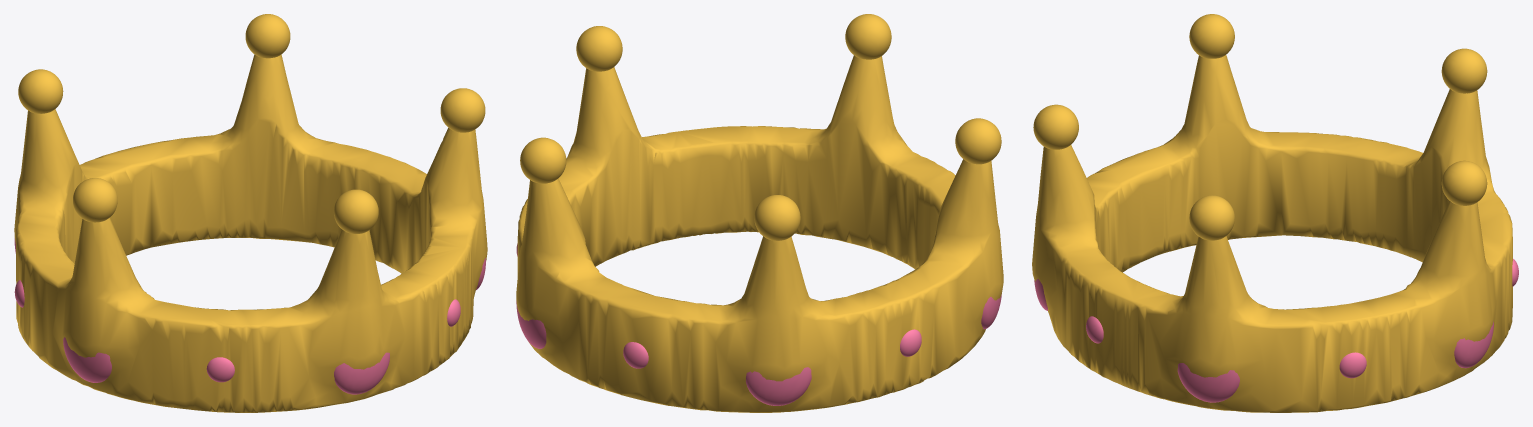
Rendered from reaccion_corona.glb.
The picture shows the model from 3 angles, left to right: view 1: azimuth 30°, elevation 25°; view 2: azimuth 150°, elevation 25°; view 3: azimuth 270°, elevation 25°; orthographic projection. The views are drawn at different scales.
Parts seen in each view (by area): view 1: corona, bolita corona 1, bolita corona 0, bolita corona 4, bolita corona 2, bolita corona 3, gema corona 0, gema corona 4, gemita corona 4; view 2: corona, bolita corona 2, bolita corona 0, bolita corona 3, bolita corona 4, bolita corona 1, gema corona 3, gema corona 2, gemita corona 2, gemita corona 3; view 3: corona, bolita corona 1, bolita corona 3, bolita corona 2, bolita corona 0, bolita corona 4, gema corona 1, gema corona 2, gemita corona 1.
Boxes of the visible parts, x1,y1,x2,y2 form: corona: (14,54,487,412); bolita corona 1: (440,88,485,132); bolita corona 0: (334,189,378,233); bolita corona 4: (73,178,117,222); bolita corona 2: (245,14,290,58); bolita corona 3: (18,69,63,113); gema corona 0: (334,352,389,394); gema corona 4: (63,337,111,382); gemita corona 4: (206,357,234,382); corona: (516,55,1003,412); bolita corona 2: (520,137,566,183); bolita corona 0: (845,14,891,59); bolita corona 3: (754,195,800,240); bolita corona 4: (955,118,1001,164); bolita corona 1: (576,26,622,71); gema corona 3: (746,367,811,405); gema corona 2: (516,301,546,348); gemita corona 2: (623,342,648,368); gemita corona 3: (900,329,921,356); corona: (1032,55,1512,412); bolita corona 1: (1189,195,1234,240); bolita corona 3: (1441,48,1487,93); bolita corona 2: (1441,160,1487,205); bolita corona 0: (1033,104,1078,149); bolita corona 4: (1189,14,1234,58); gema corona 1: (1177,363,1239,402); gema corona 2: (1454,321,1493,368); gemita corona 1: (1339,352,1366,378).
Bounding box in the file's own units: 0.6147 × 0.2988 × 0.6234.
